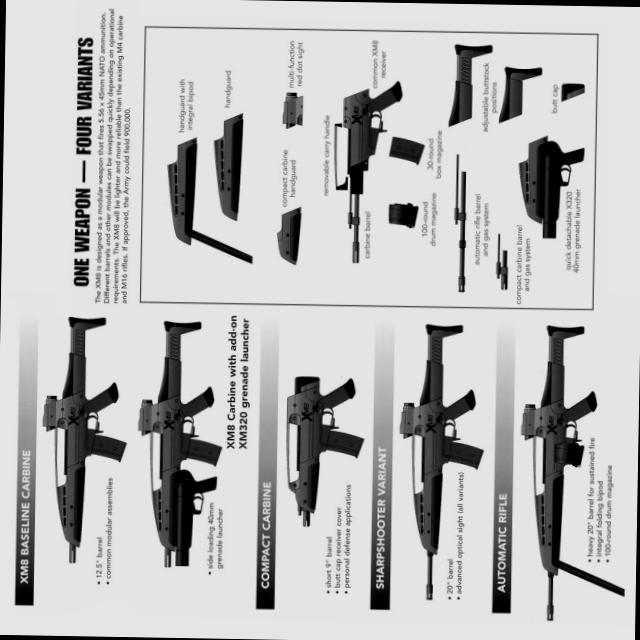long weapon: (400, 322, 482, 564), (37, 315, 128, 528), (150, 322, 223, 576), (278, 348, 364, 524)
